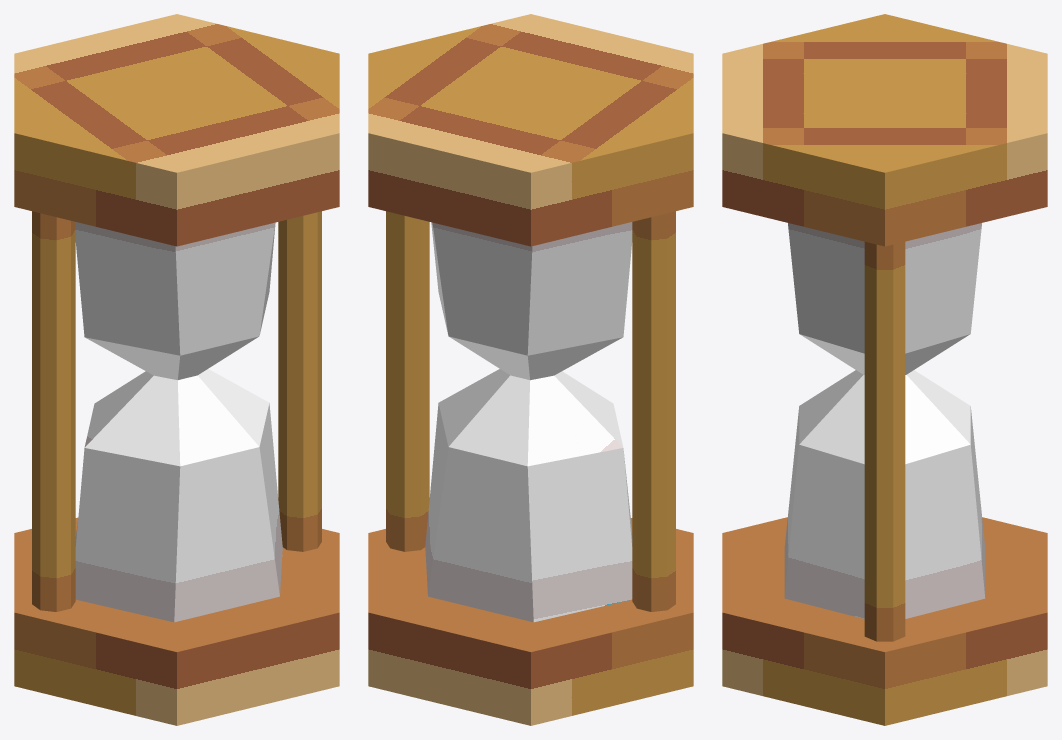
Rendered from hourglassitem.fbx.
3 renders of one model, left to right at view 1: azimuth 30°, elevation 25°; view 2: azimuth 150°, elevation 25°; view 3: azimuth 270°, elevation 25°, orthographic.
Visible parts, largest first — view 1: cylinder_1, sphere, cylinder, sphere_1, cylinder_2, cylinder_3; view 2: cylinder_1, sphere, cylinder, sphere_1, cylinder_2, cylinder_3; view 3: cylinder_1, cylinder, sphere, sphere_1, cylinder_3.
Boxes of the visible parts, x1,y1,x2,y2 form: cylinder_1: [14, 14, 339, 246]; sphere: [75, 369, 282, 622]; cylinder: [14, 517, 339, 725]; sphere_1: [75, 222, 275, 380]; cylinder_2: [32, 211, 75, 611]; cylinder_3: [278, 211, 321, 551]; cylinder_1: [368, 14, 693, 246]; sphere: [425, 369, 632, 622]; cylinder: [368, 518, 693, 725]; sphere_1: [431, 222, 632, 380]; cylinder_2: [632, 211, 675, 611]; cylinder_3: [386, 211, 429, 551]; cylinder_1: [722, 14, 1047, 246]; cylinder: [722, 517, 1047, 725]; sphere: [784, 370, 985, 618]; sphere_1: [788, 223, 981, 374]; cylinder_3: [864, 242, 905, 641].
Bounding box in the file's own units: 28.87 × 46.88 × 25.
Materials: 1 (1 with a texture image).
